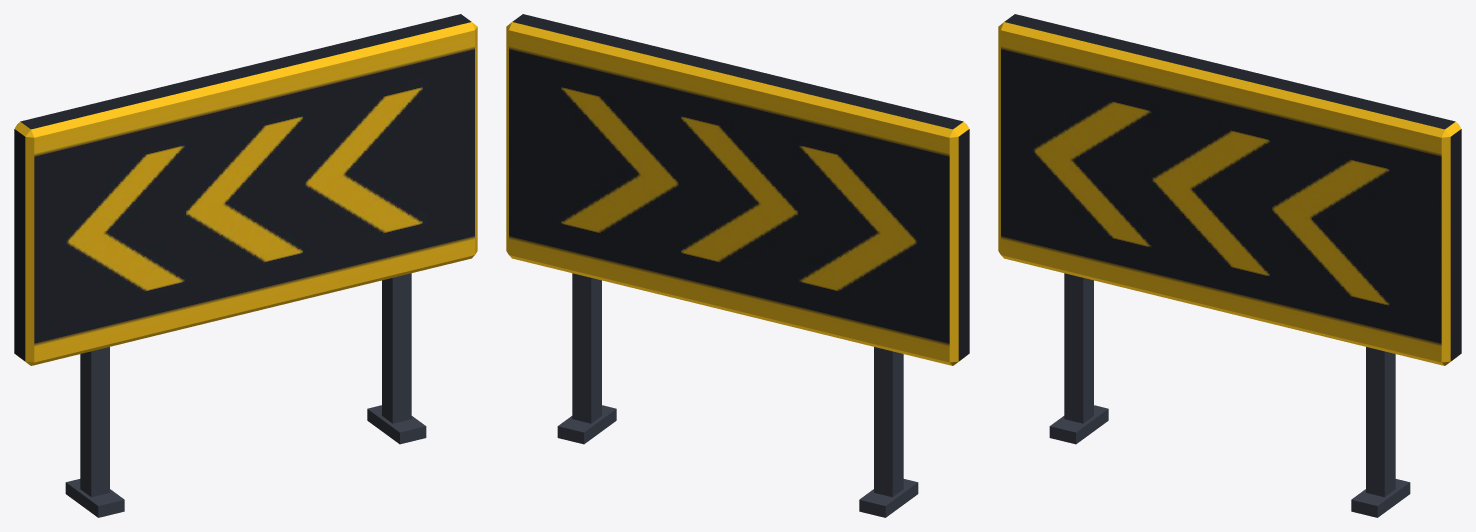
File: chevron.glb
3 views of the same model, side by side, from view 1: azimuth 30°, elevation 25°; view 2: azimuth 150°, elevation 25°; view 3: azimuth 330°, elevation 25° (orthographic).
Visible parts, largest first — view 1: chevron; view 2: chevron; view 3: chevron.
Part boxes in pixels (box(x1,y1,x2,y2)): chevron: box(14, 14, 477, 517); chevron: box(506, 14, 969, 517); chevron: box(998, 14, 1461, 517).
Bounding box in the file's own units: 2.4 × 2 × 0.3.
Materials: 1 (1 with a texture image).
